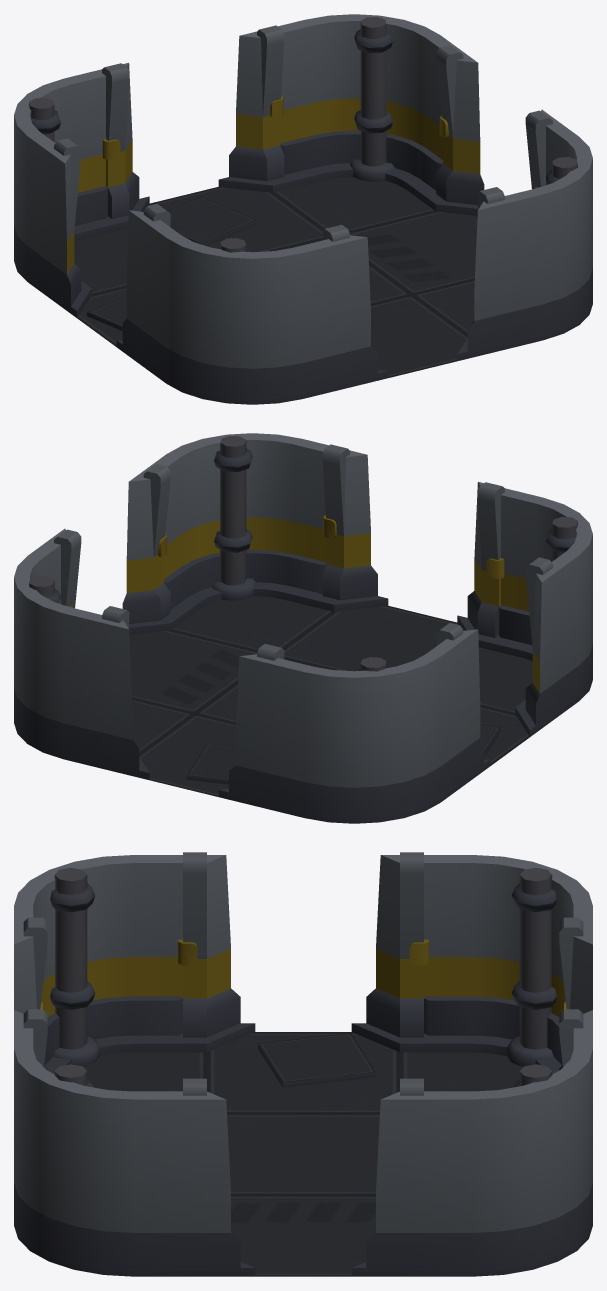
The model's file is k_room_small.glb.
3 renders of one model, top to bottom at view 1: azimuth 30°, elevation 25°; view 2: azimuth 150°, elevation 25°; view 3: azimuth 270°, elevation 25°, orthographic. The views are drawn at different scales.
Visible parts, largest first — view 1: room-small; view 2: room-small; view 3: room-small.
Boxes of the visible parts, left/top/right/bottom form: room-small: left=14, top=14, right=592, bottom=404; room-small: left=14, top=433, right=592, bottom=823; room-small: left=14, top=852, right=592, bottom=1276.
Bounding box in the file's own units: 12 × 4.25 × 12.
1 material, 1 textured.
